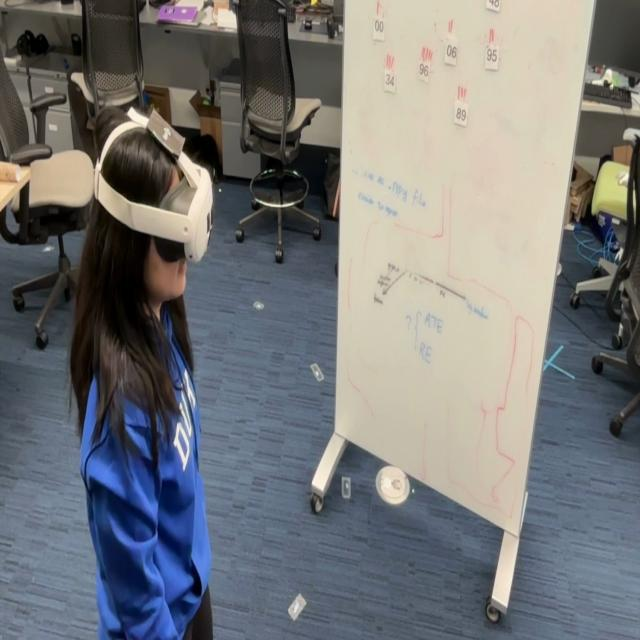Headset: (92, 104, 214, 264)
UnityLogo: (145, 114, 190, 163)
